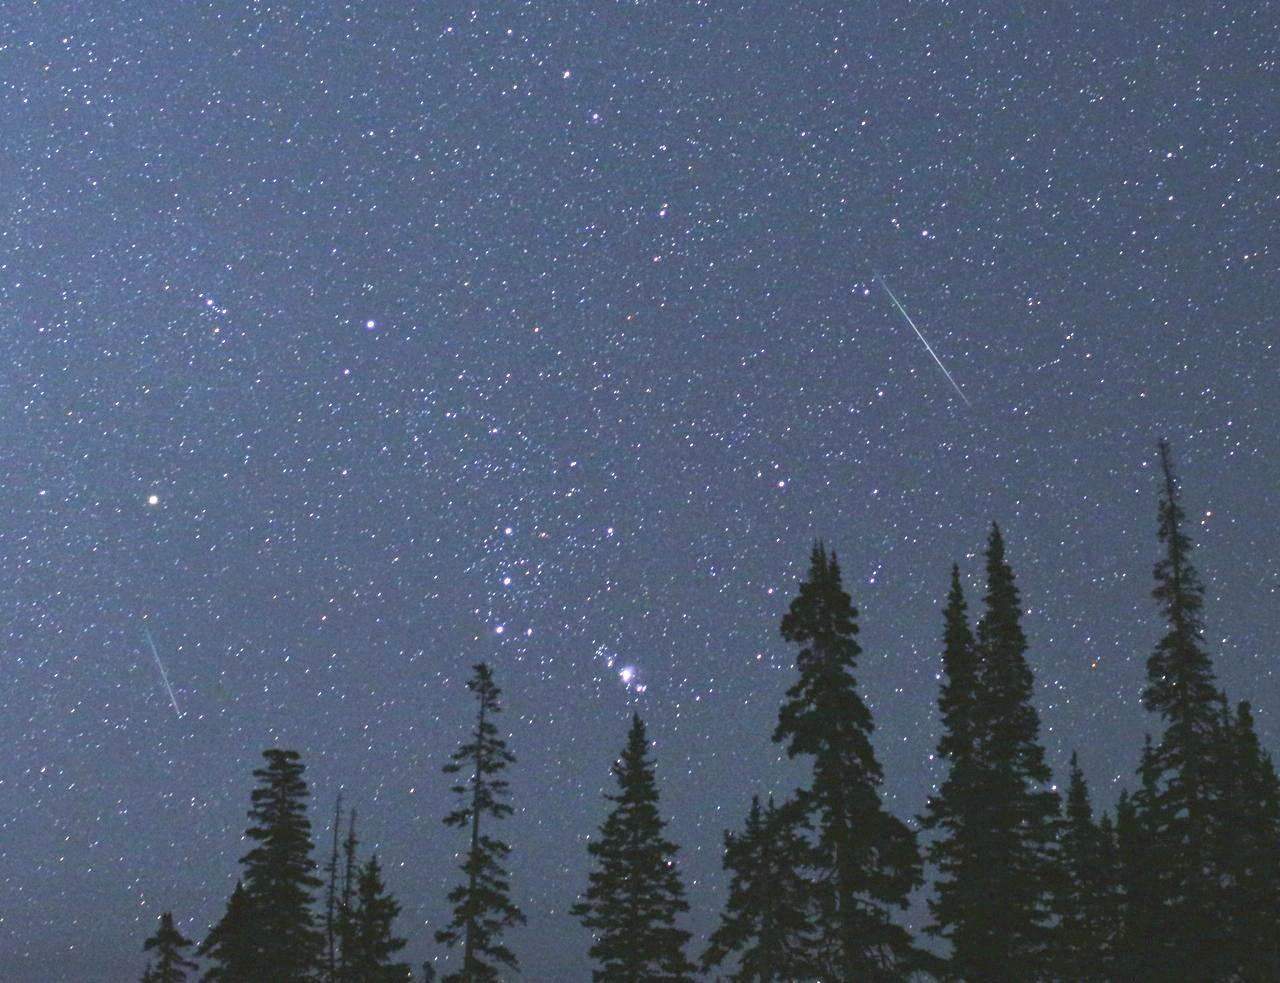meteorite: (883, 273, 969, 413), (127, 619, 215, 714)
